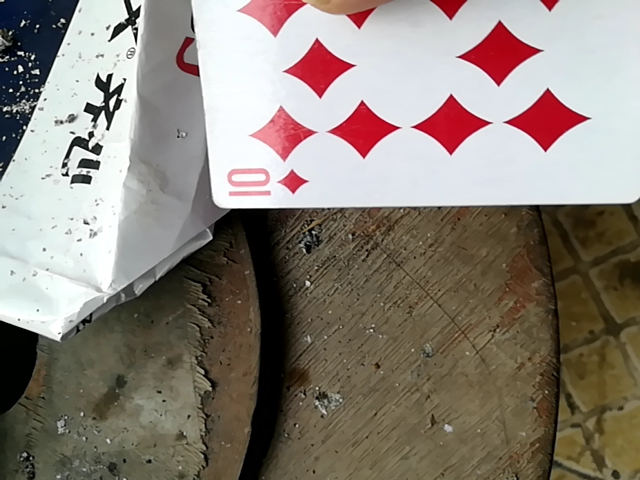fk 10: (173, 0, 637, 205)
